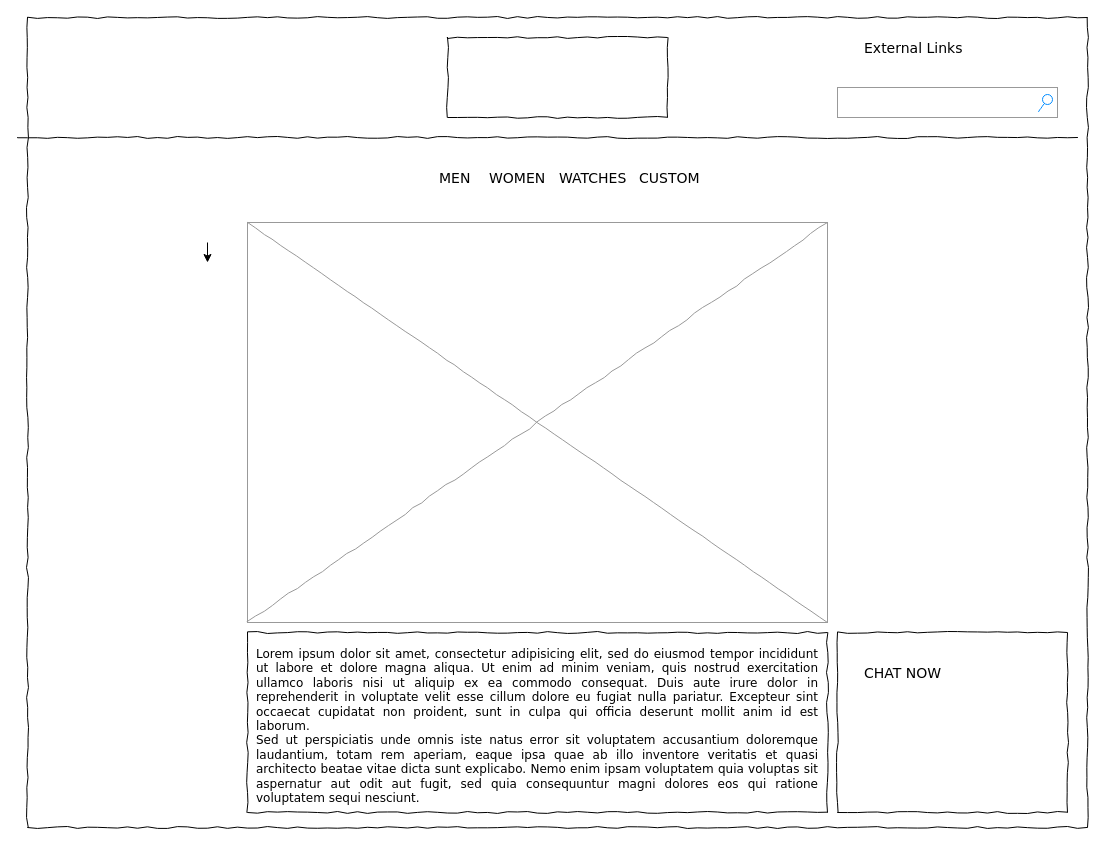
This 1105x845 diagram has some shape labels left out. The centre of each missing label's shape, as x and y in pixels:
"MAUI JEWELERS" belongs at pixel 557 77.
"Search" belongs at pixel 947 102.
